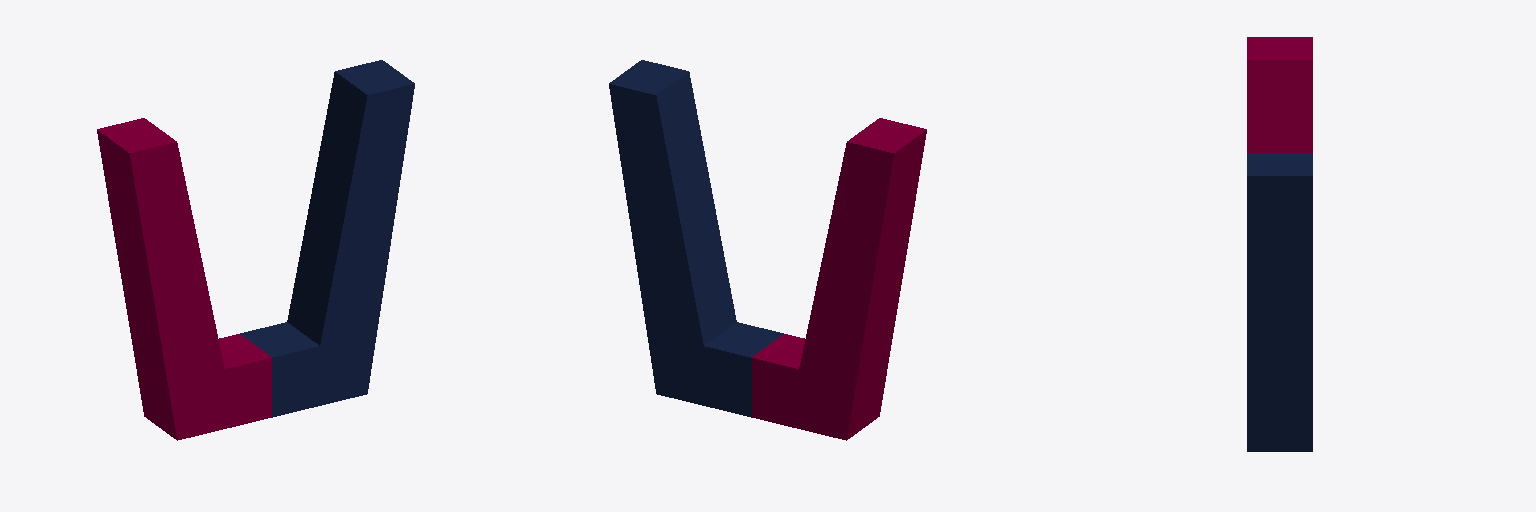
The picture shows the model from 3 angles: view 1: azimuth 30°, elevation 25°; view 2: azimuth 150°, elevation 25°; view 3: azimuth 270°, elevation 25°; orthographic projection.
Visible parts, largest first — view 1: magnet_立方体; view 2: magnet_立方体; view 3: magnet_立方体.
Boxes of the visible parts, <box> form: magnet_立方体: <box>97,60,414,440</box>; magnet_立方体: <box>609,60,926,440</box>; magnet_立方体: <box>1247,37,1312,451</box>.
Bounding box in the file's own units: 2 × 2 × 0.4.
1 materials, 1 textured.